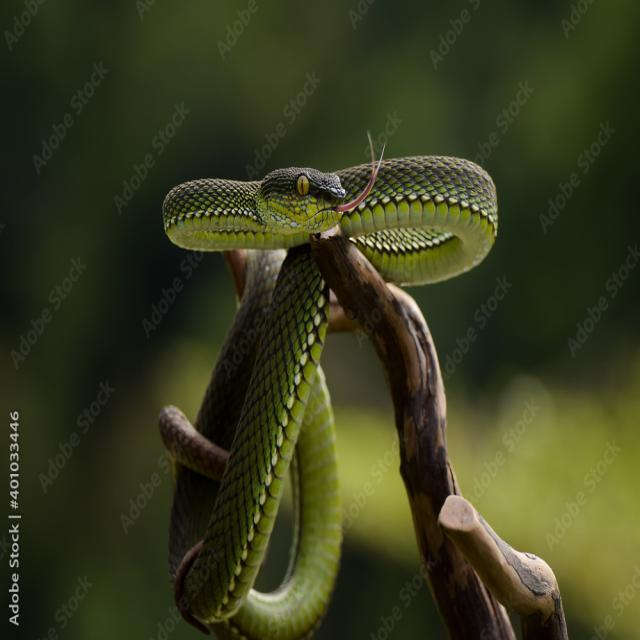Snake: (134, 103, 525, 640)
